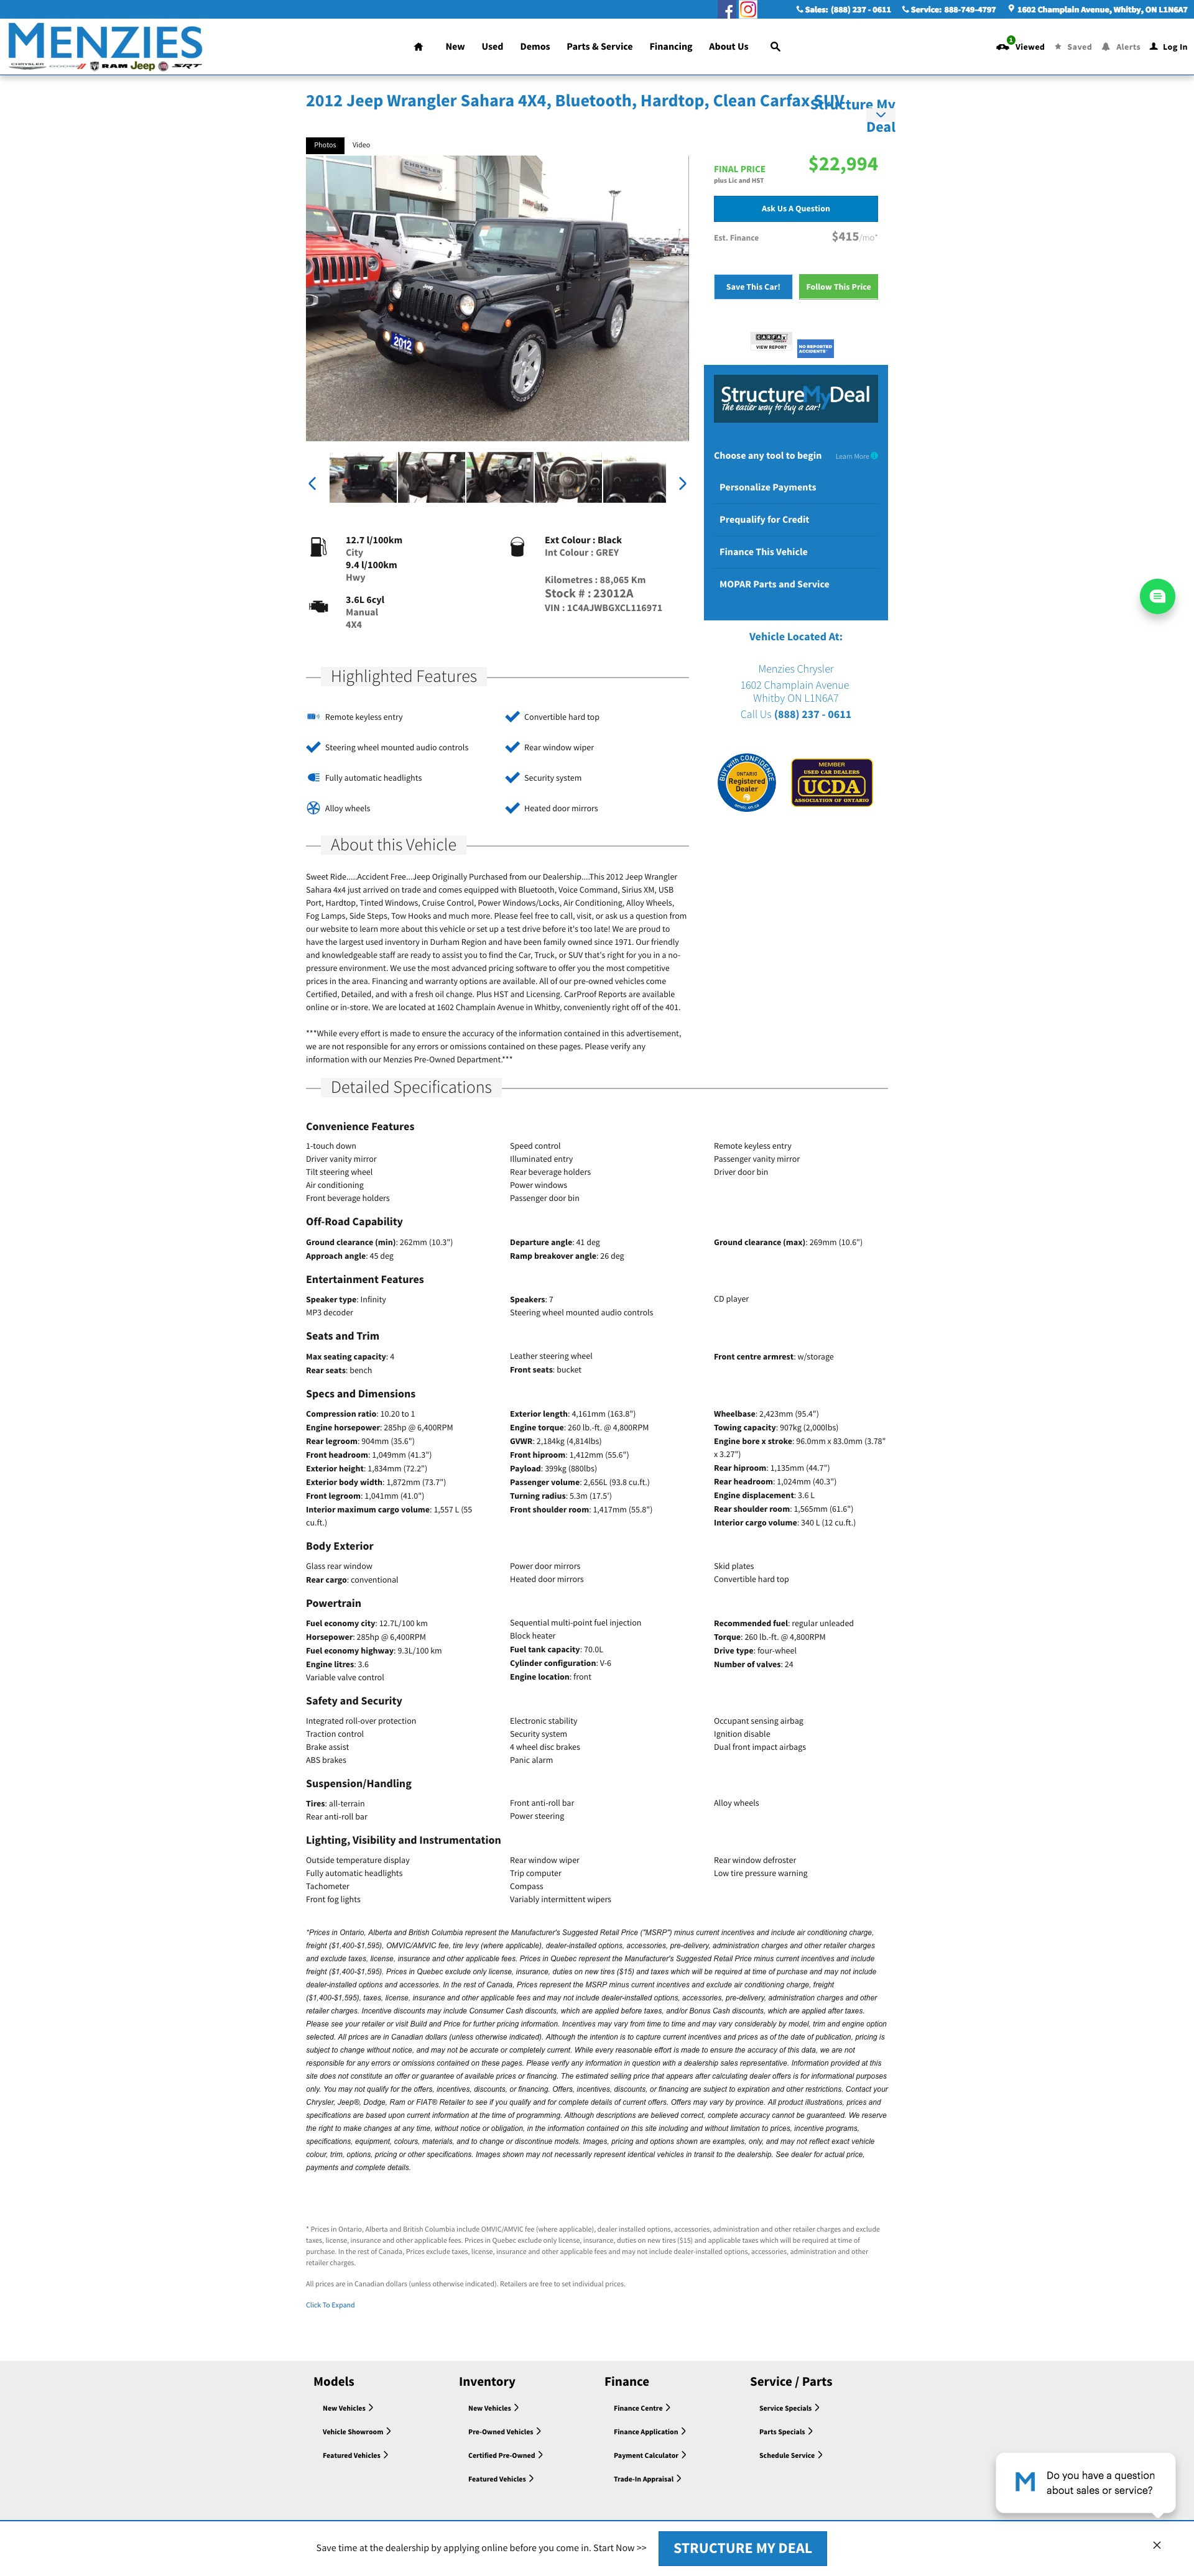car: (679, 476, 687, 491)
